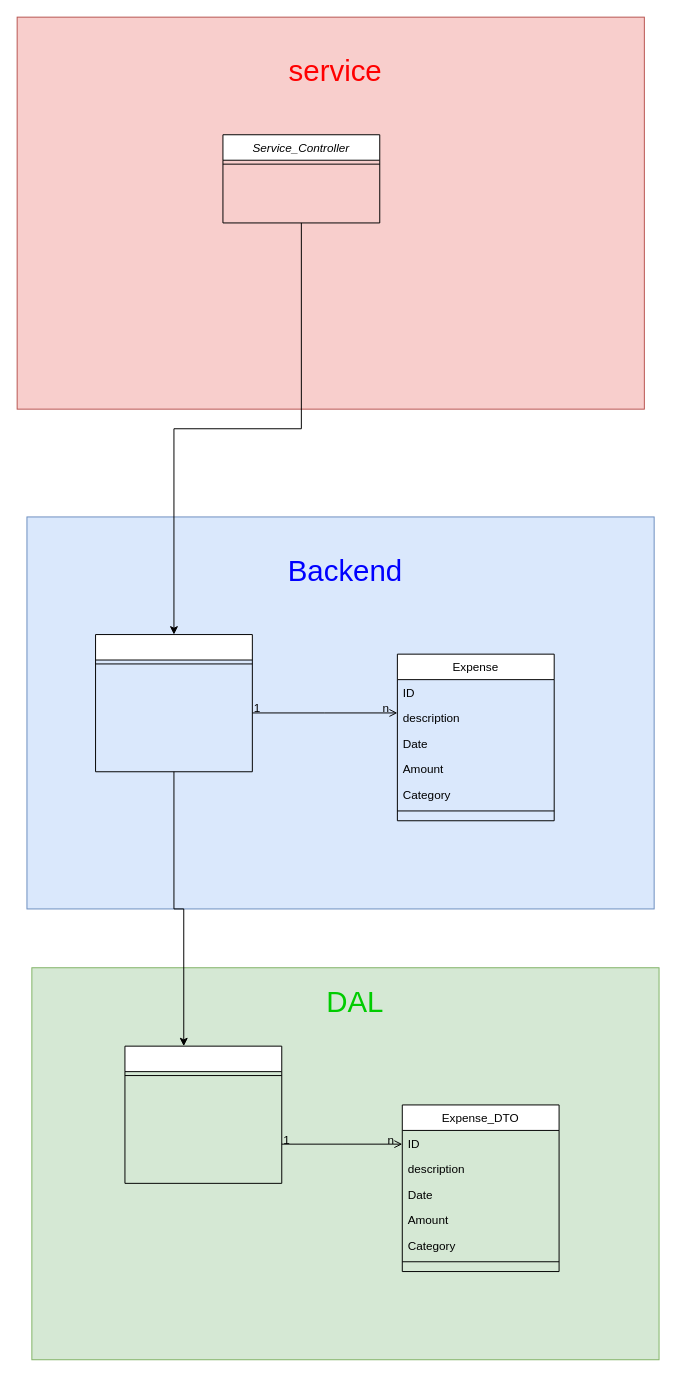
The diagram is 676 pixels wide and 1377 high, and some of its shapes have lost their labels. The centre of each missing label's shape, as x and y in pixels:
Controller: (x=173, y=703)
Dal_Controller: (x=203, y=1114)
